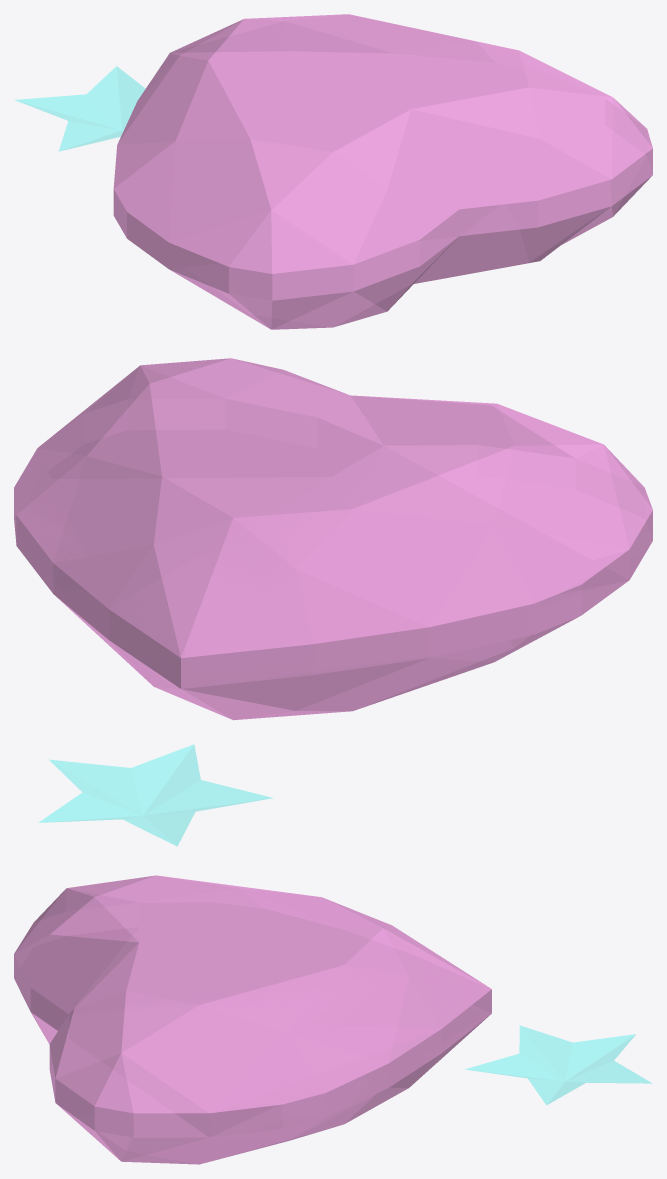
The model's file is shine.glb.
3 views of the same model, one above another, from view 1: azimuth 30°, elevation 25°; view 2: azimuth 150°, elevation 25°; view 3: azimuth 270°, elevation 25° (orthographic). The views are drawn at different scales.
Parts seen in each view (by area): view 1: jewerl; view 2: jewerl; view 3: jewerl.
Boxes of the visible parts, x1,y1,x2,y2 form: jewerl: (15, 14, 652, 329); jewerl: (14, 358, 652, 846); jewerl: (14, 875, 651, 1164).
Size of what is drawn, in the model's own units: 0.5101 by 0.1843 by 0.6536.
